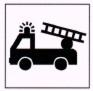sinais: (0, 1, 93, 91)
